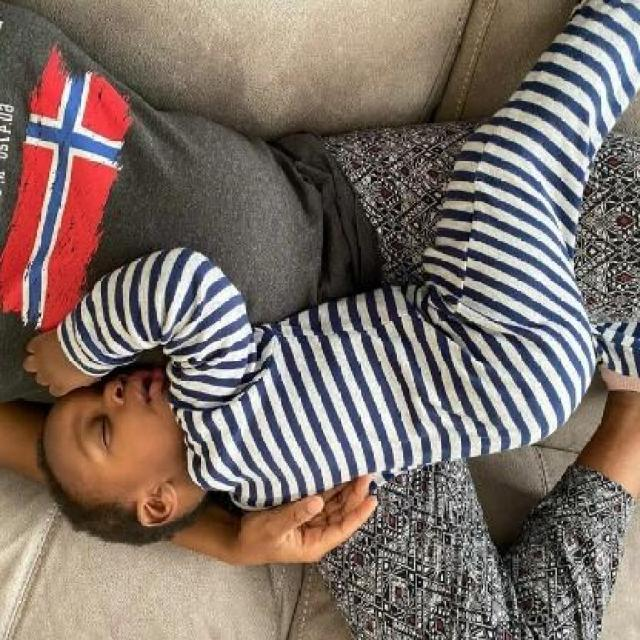baby: (23, 246, 599, 551)
